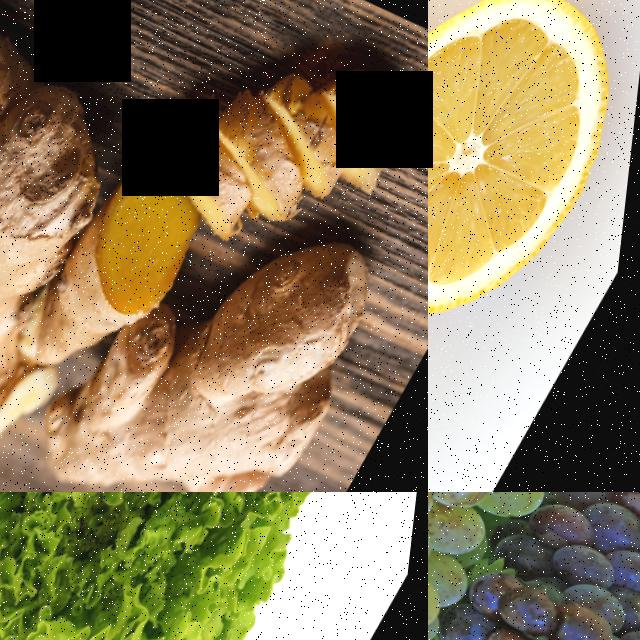ginger: (44, 178, 425, 492), (0, 14, 166, 445), (12, 160, 223, 404)
grapes: (428, 492, 640, 640), (428, 492, 552, 640)
lemon: (428, 0, 640, 322)
lettuce: (0, 492, 428, 640)
